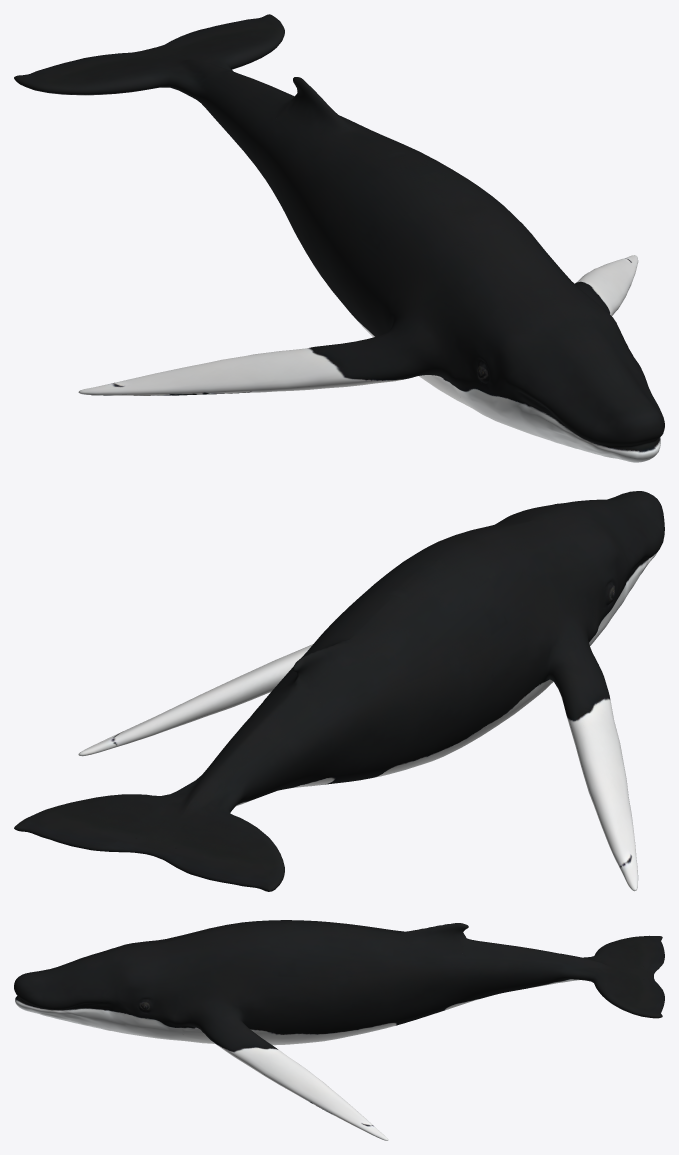
File: whale_fixed-.glb
The picture shows the model from 3 angles, top to bottom: view 1: azimuth 30°, elevation 25°; view 2: azimuth 150°, elevation 25°; view 3: azimuth 270°, elevation 25°; orthographic projection. The views are drawn at different scales.
Parts seen in each view (by area): view 1: model; view 2: model; view 3: model.
Part boxes in pixels (x1,y1,x2,y2): model: [14, 14, 664, 462]; model: [14, 491, 664, 891]; model: [14, 920, 664, 1140].
Bounding box in the file's own units: 1.2 × 0.4239 × 1.9.
Materials: 1 (1 with a texture image).
